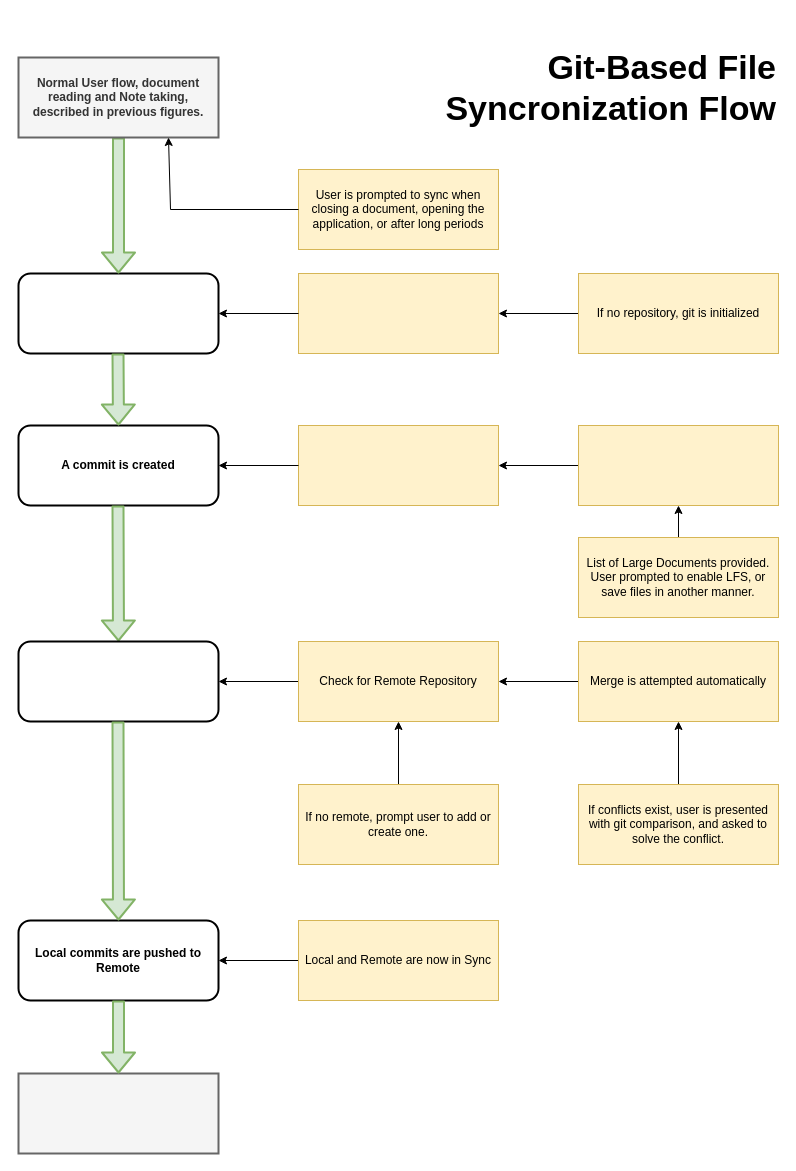
Some shapes in this 796 by 1171 pixel diagram are drawn without their labels. Here are the shapes that lost their labels. From the top down, the box of each, then its label:
(17, 272, 219, 354): User Selects Sync
(298, 272, 498, 354): Git Status checked
(298, 424, 498, 506): All files in the repository are staged for commit.
(578, 424, 778, 506): Large Documents are not commited unless Git LFS is enabled.
(17, 640, 219, 722): Remote Repository is Pulled
(17, 1072, 219, 1154): Normal User flow continues
